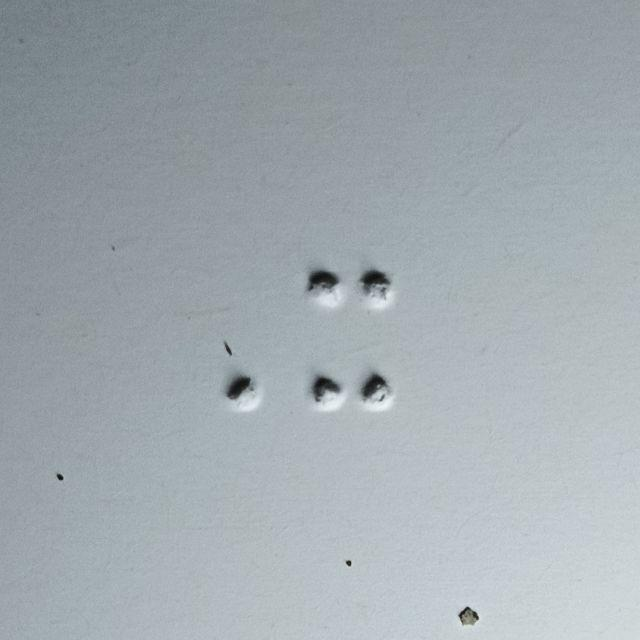X: (311, 271, 397, 415)
capital: (177, 268, 264, 412)
